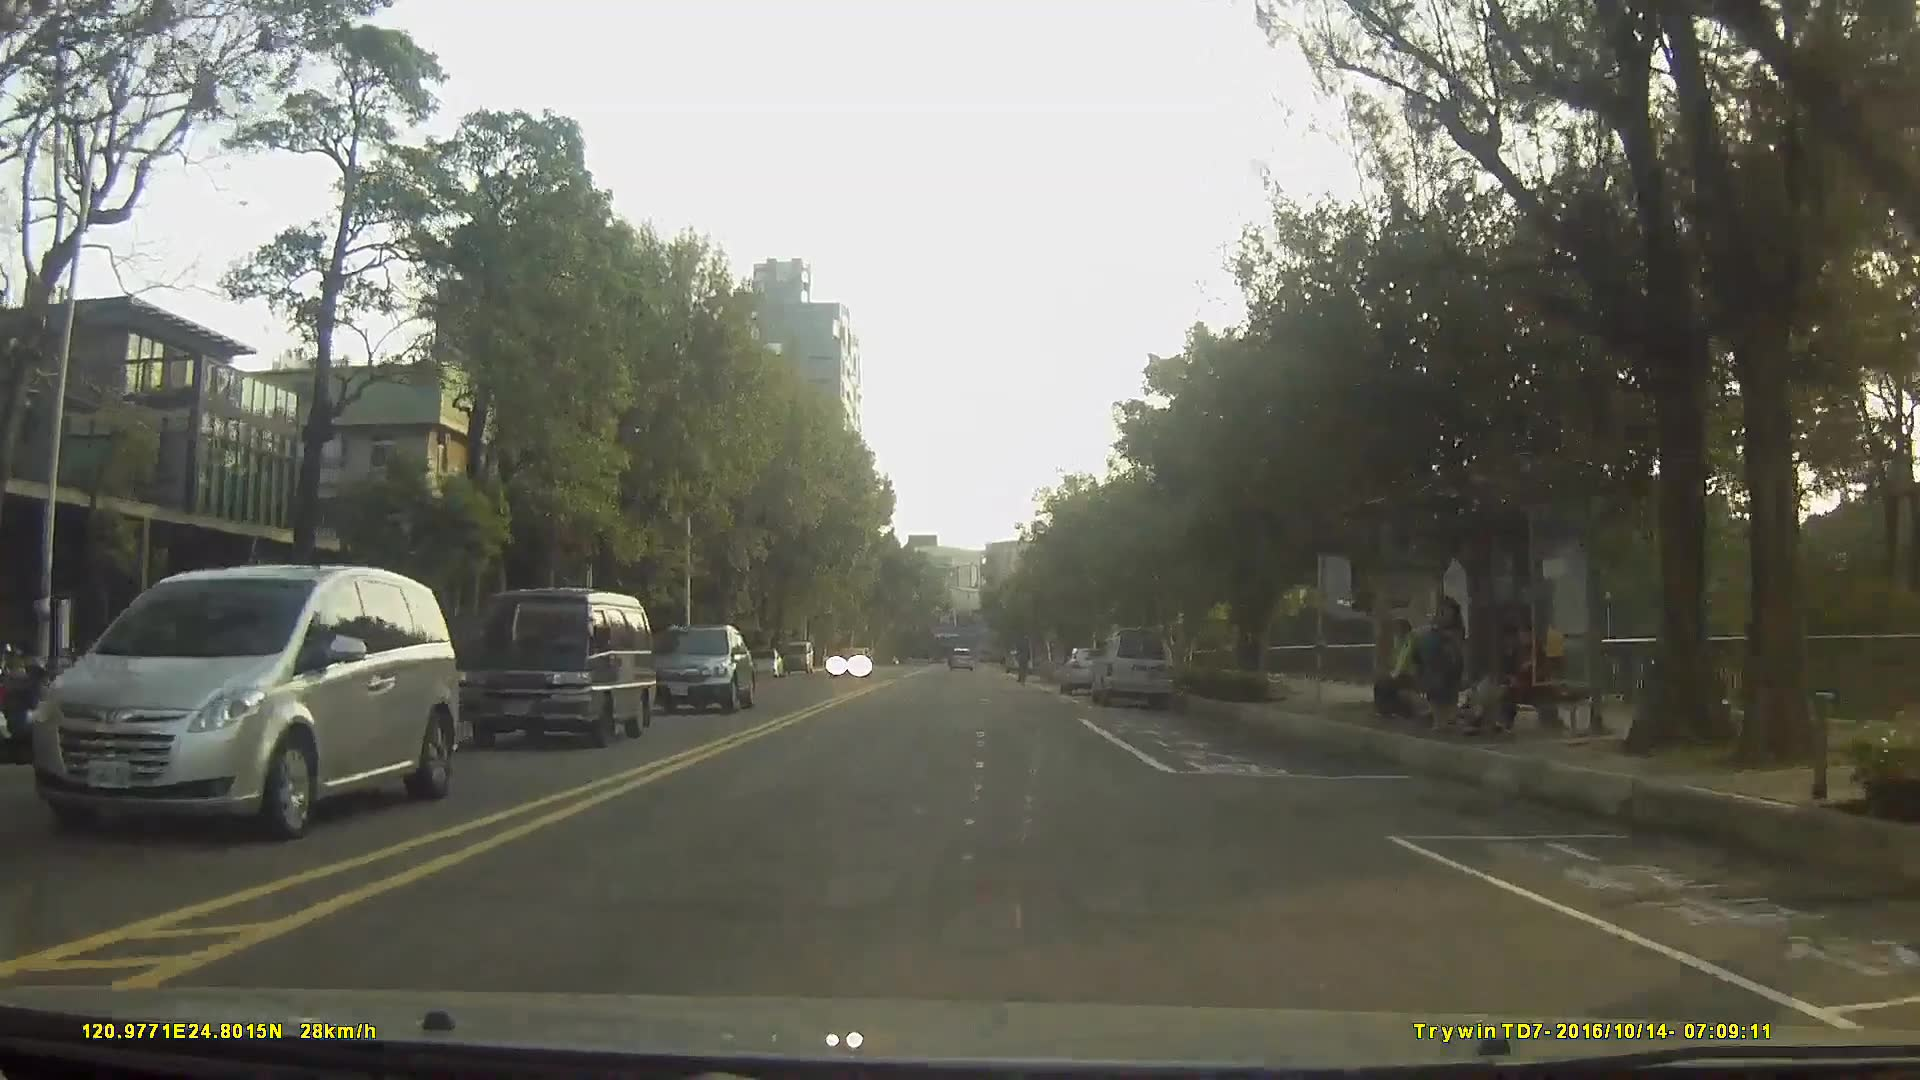pedestrian: (1407, 595, 1473, 729), (1463, 623, 1524, 732), (1377, 618, 1428, 719)
rider: (1014, 632, 1034, 691)
vehicle: (18, 558, 461, 842), (456, 584, 656, 744), (645, 625, 756, 711), (1086, 626, 1176, 704), (1060, 643, 1117, 694), (827, 641, 874, 675), (780, 638, 814, 672), (745, 645, 781, 677), (948, 644, 974, 668)
